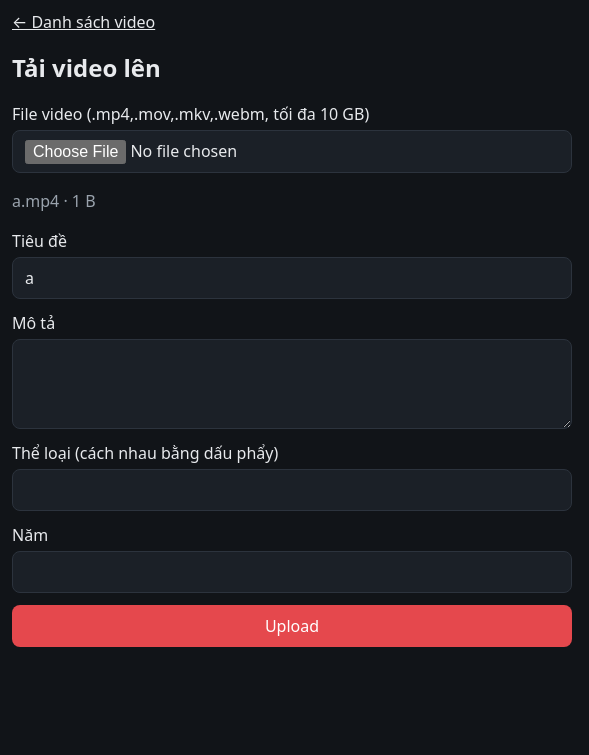
AdminUploadPage › Huỷ upload trước khi có video: không gọi xoá
Earlier steps of the test are not shown.
What coordinates should you click on to do the following:
click the button "Upload"
I would click on:
 (292, 626)
Its box is [12,605,572,647].
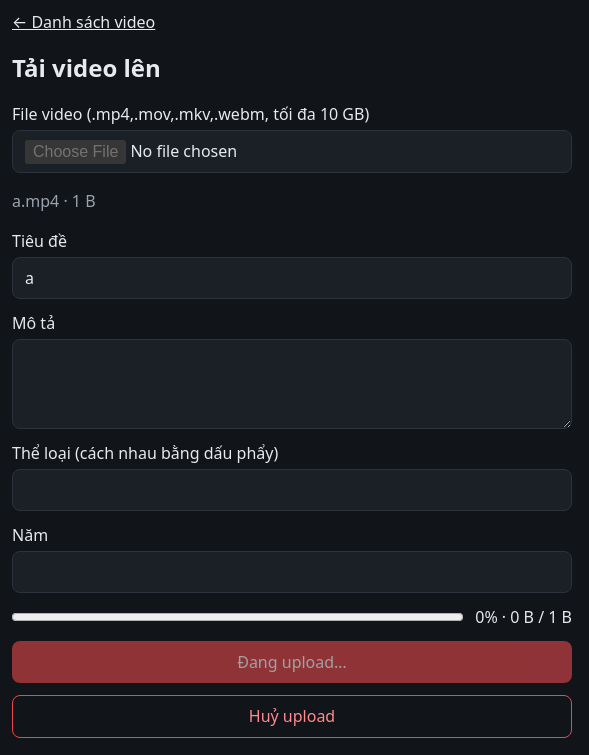
What coordinates should you click on to do the following:
click the button "Huỷ upload"
I would click on:
 (292, 716)
Its box is [12,695,572,738].
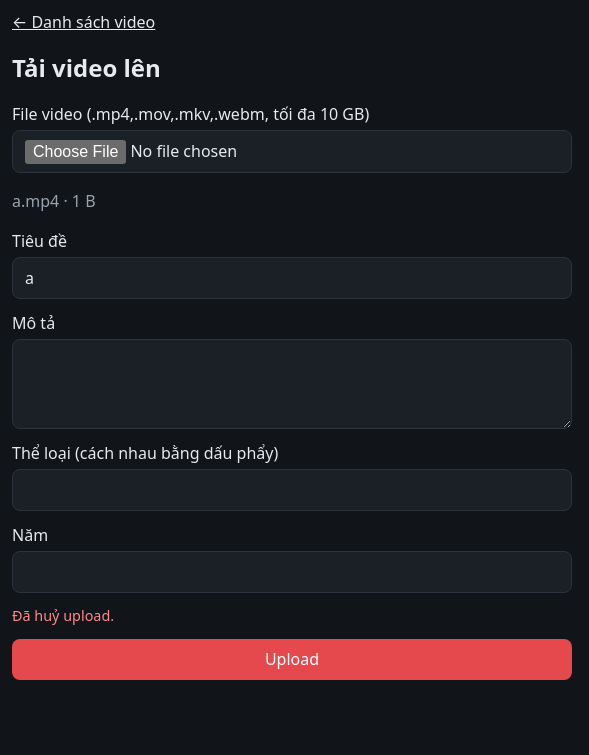
Check: the text "Đã huỷ upload." is shown, box [12,606,114,625]
